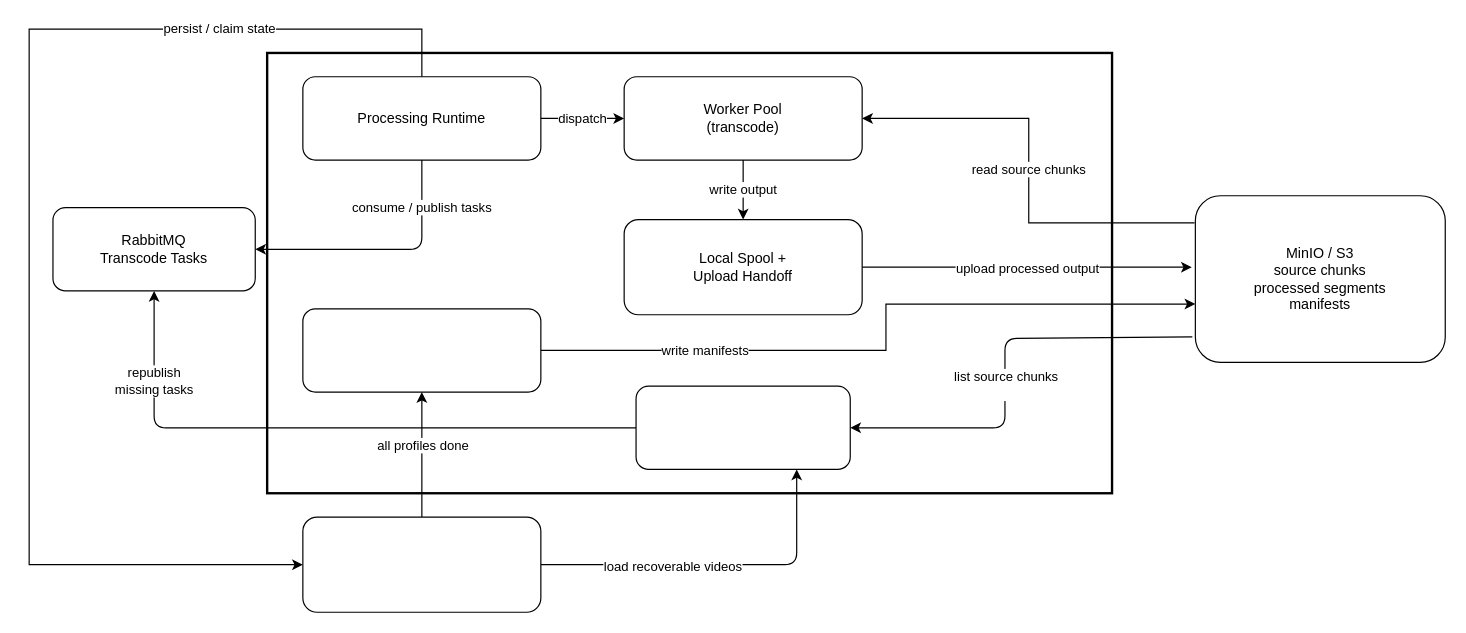
Image size: 1466x633. Some labels were removed from this diagram. Each missing label, with the centre of its shape:
"Manifest Generation" goes at pixel 421 350.
"Postgres" goes at pixel 421 564.
"Startup Recovery" goes at pixel 742 427.
